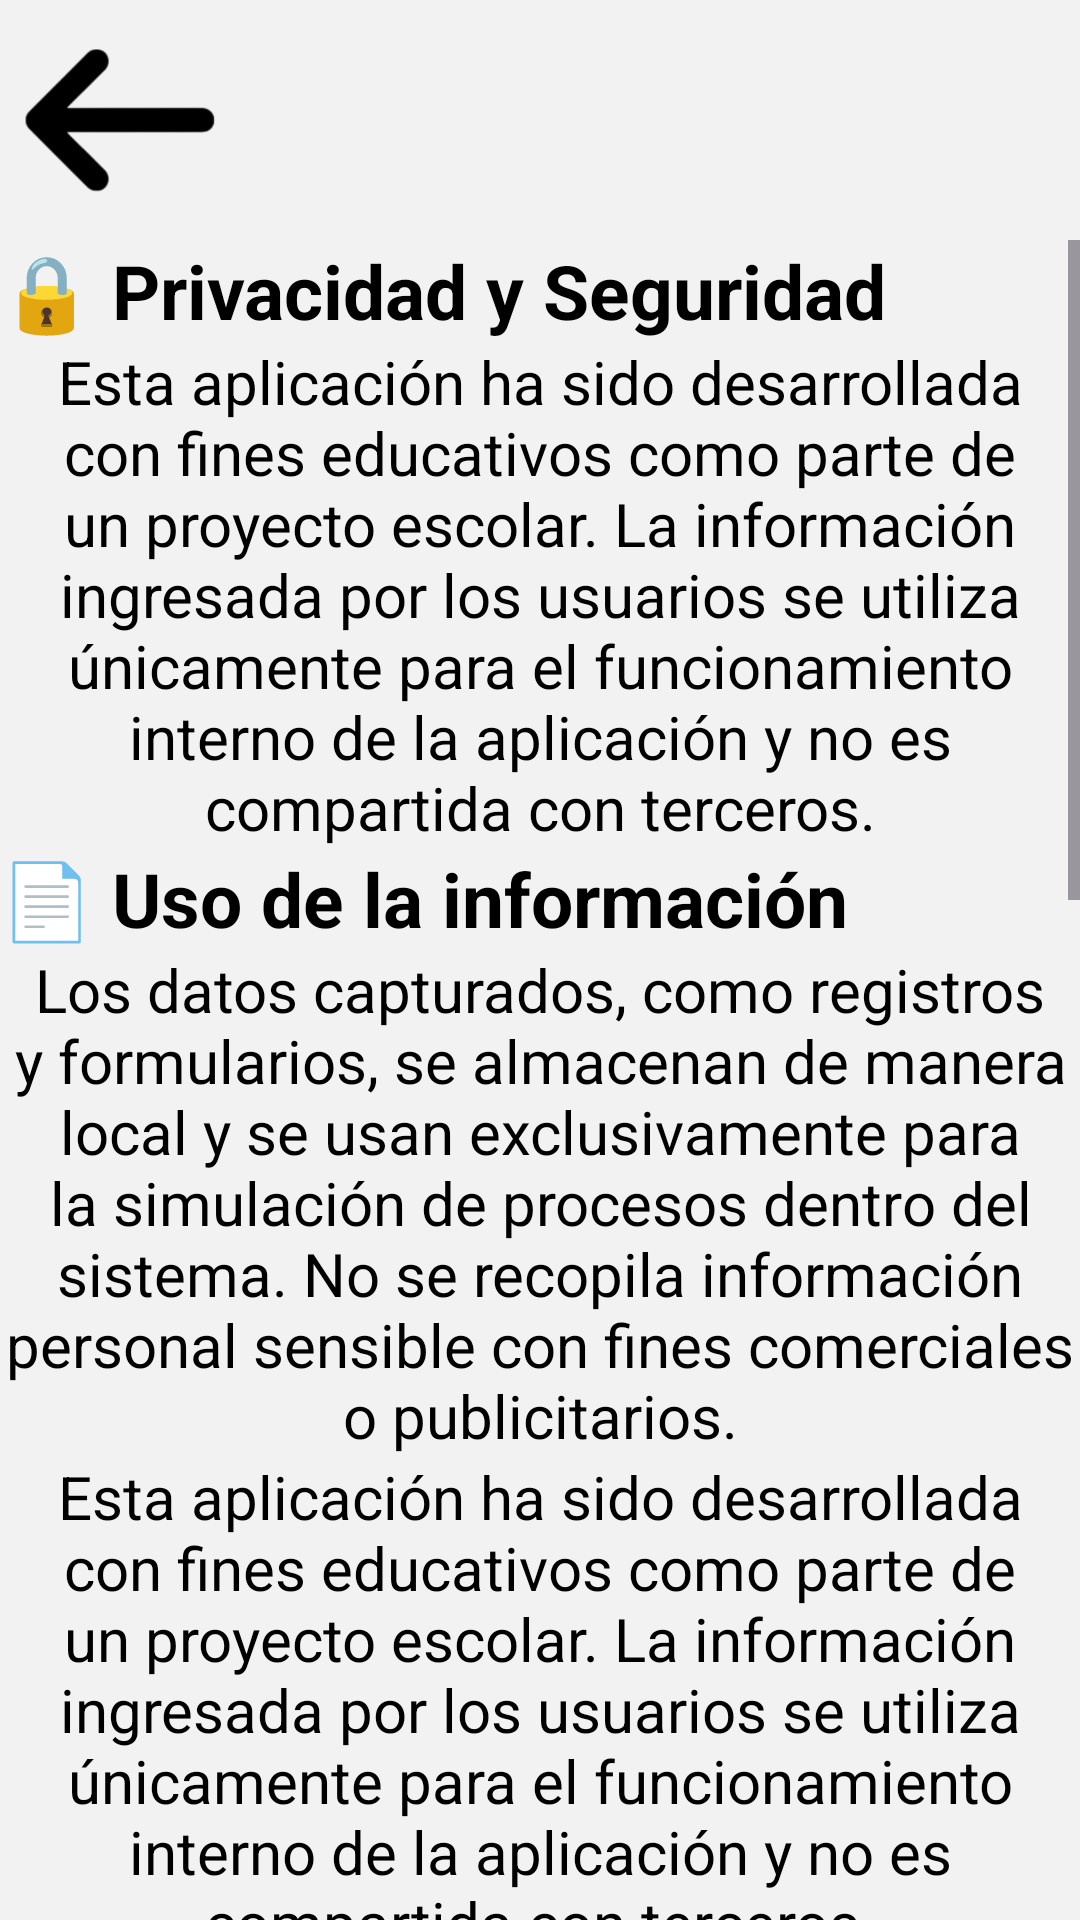

Where to tap for icons on this 1080x1920 app screen, as [x,y]:
flecha: [120,120]
